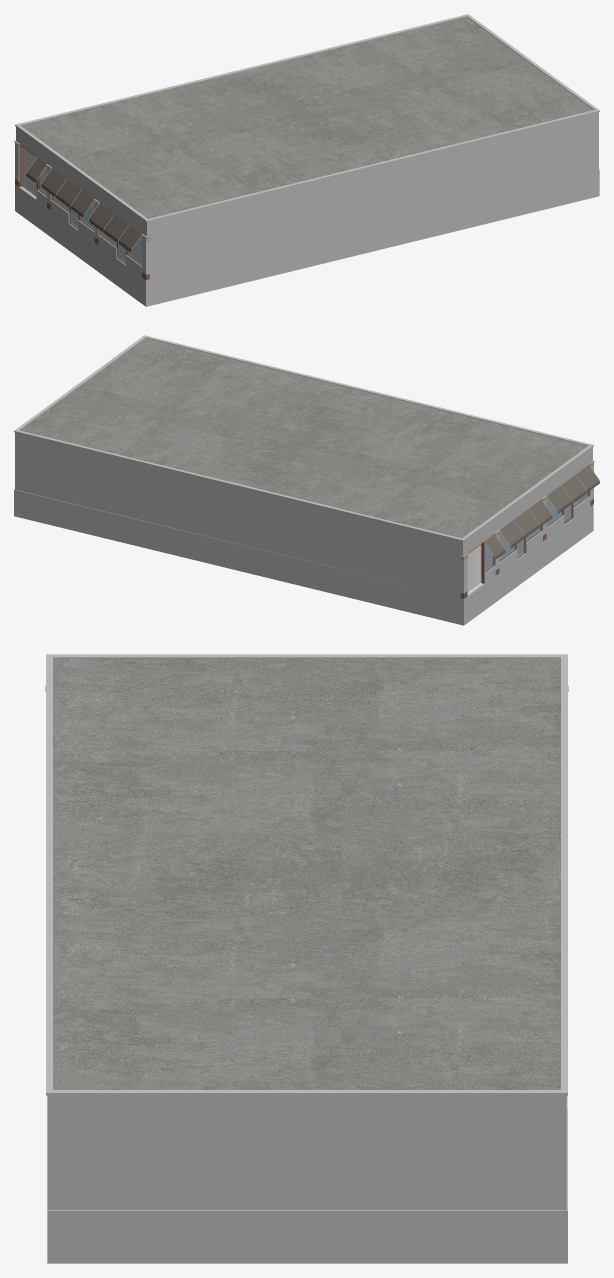
The model's file is A23_Building02.fbx.
3 views of the same model, one above another, from view 1: azimuth 30°, elevation 25°; view 2: azimuth 150°, elevation 25°; view 3: azimuth 270°, elevation 25° (orthographic). The views are drawn at different scales.
Parts seen in each view (by area): view 1: BD1675, BD1670, BD1678, BD1676, BD1674, BD1672, BD1673; view 2: BD1675, BD1670, BD1678, BD1676, BD1674, BD1672, BD1673; view 3: BD1675, BD1670, BD1678.
Part boxes in pixels (<box>): BD1675: <box>21,17,593,262</box>; BD1670: <box>15,14,599,278</box>; BD1678: <box>15,169,599,306</box>; BD1676: <box>26,157,141,252</box>; BD1674: <box>38,166,142,264</box>; BD1672: <box>15,145,149,279</box>; BD1673: <box>22,147,36,195</box>; BD1675: <box>20,338,587,569</box>; BD1670: <box>14,335,593,598</box>; BD1678: <box>14,489,593,625</box>; BD1676: <box>484,465,599,559</box>; BD1674: <box>484,492,587,570</box>; BD1672: <box>460,491,593,598</box>; BD1673: <box>467,544,481,592</box>; BD1675: <box>53,658,560,1089</box>; BD1670: <box>46,654,567,1209</box>; BD1678: <box>47,1095,567,1263</box>.
Size of the model in its own units: 36.27 by 6.43 by 17.86.
